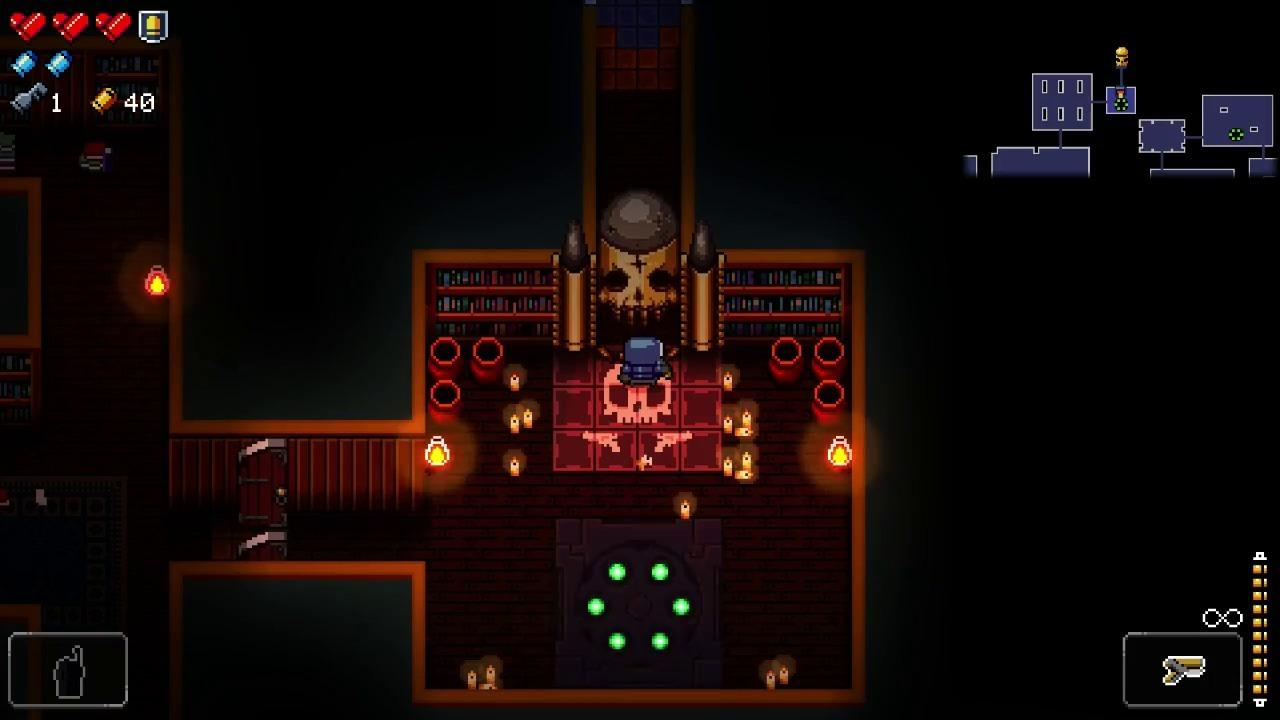boss_entry: (551, 348, 721, 470)
player: (623, 337, 664, 387)
teleporter: (556, 518, 719, 689)
unlocked_door: (238, 437, 287, 563)
